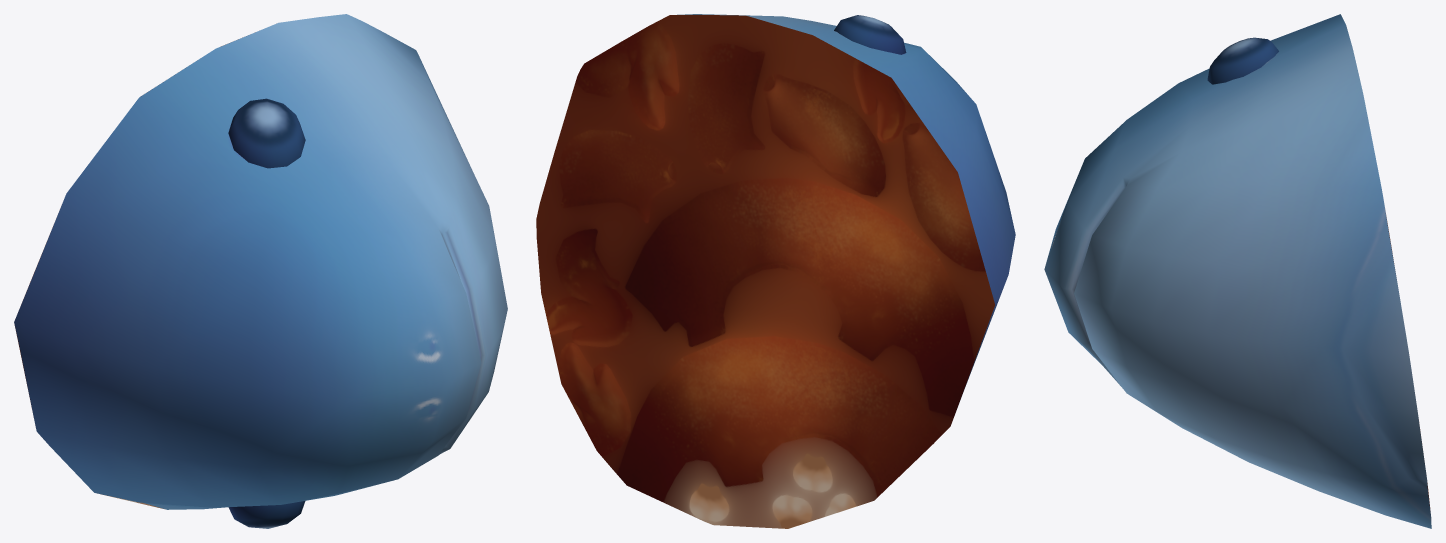
Rendered from fish01.fbx.
3 renders of one model, left to right at view 1: azimuth 30°, elevation 25°; view 2: azimuth 150°, elevation 25°; view 3: azimuth 270°, elevation 25°, orthographic. The views are drawn at different scales.
Visible parts, largest first — view 1: fish01; view 2: fish01; view 3: fish01.
Part boxes in pixels (box(x1,y1,x2,y2)): fish01: box(14, 14, 507, 528); fish01: box(536, 14, 1015, 528); fish01: box(1044, 14, 1431, 528).
Size of the model in its own units: 0.1445 by 0.1538 by 0.116.
